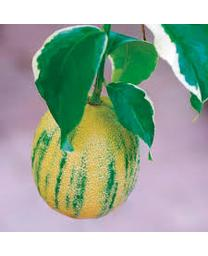lemon: (33, 97, 140, 219)
